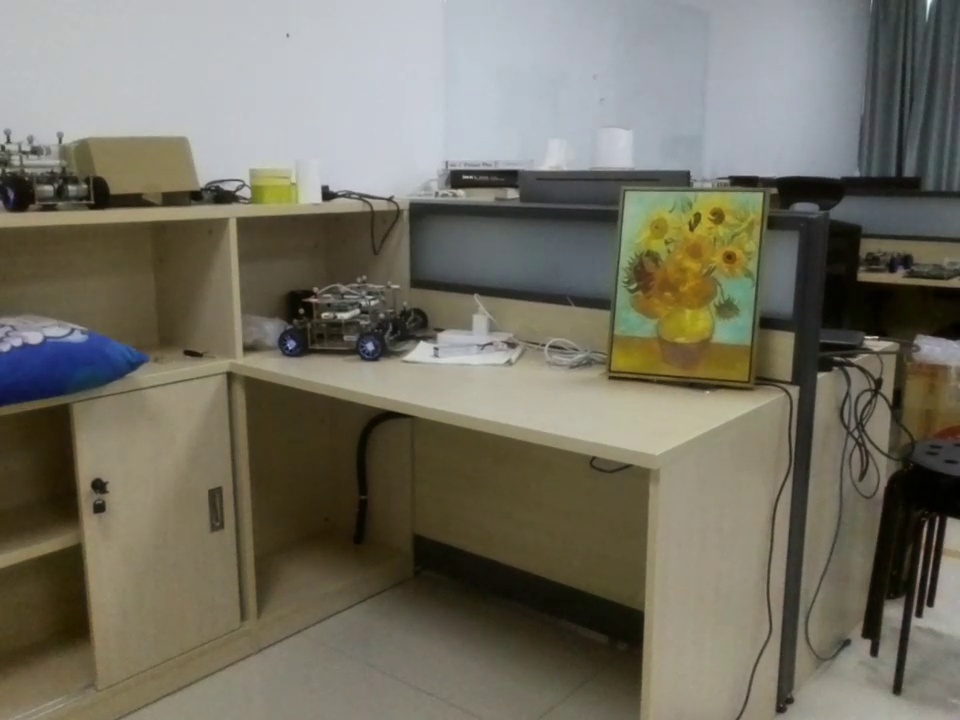painting: (612, 191, 773, 390)
